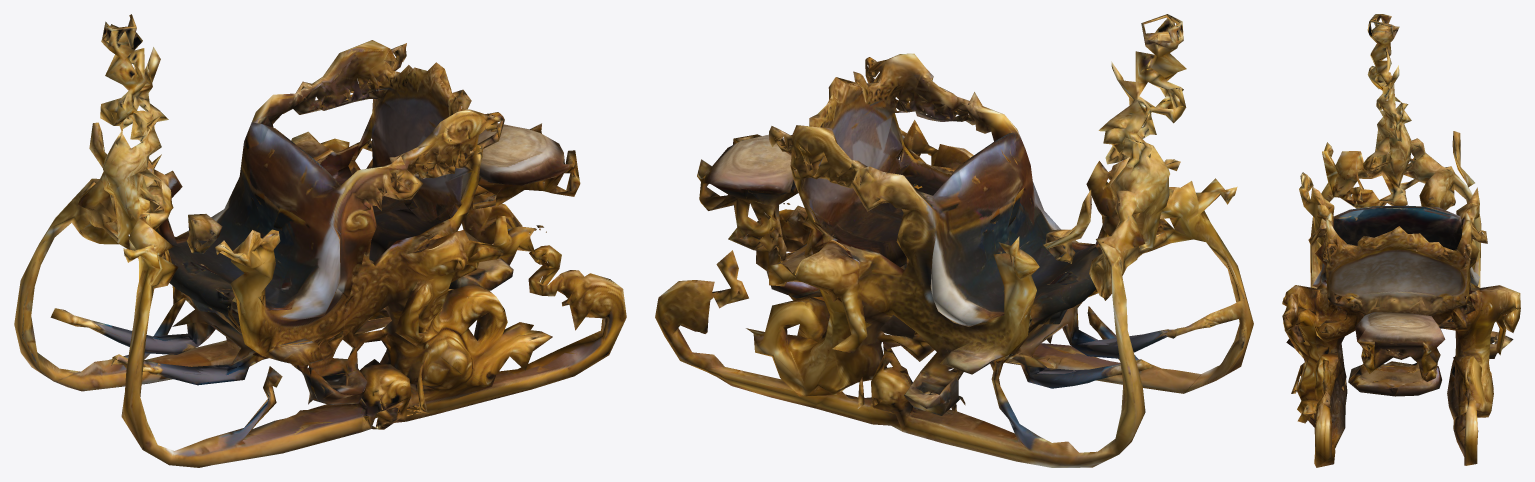
The model's file is carrier.glb.
3 renders of one model, left to right at view 1: azimuth 30°, elevation 25°; view 2: azimuth 150°, elevation 25°; view 3: azimuth 270°, elevation 25°, orthographic. The views are drawn at different scales.
Size of the model in its own units: 2 by 1.62 by 1.14.
Materials: 1 (1 with a texture image).
